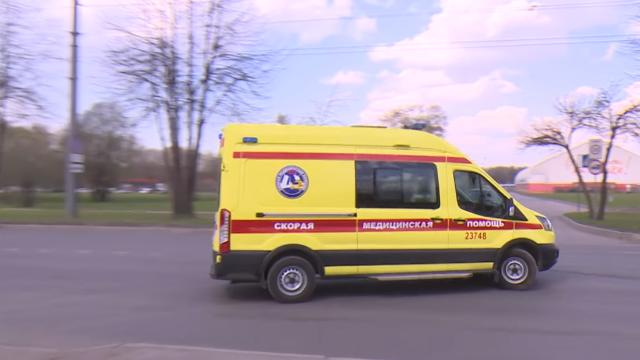intensive care unit: (214, 125, 561, 306)
